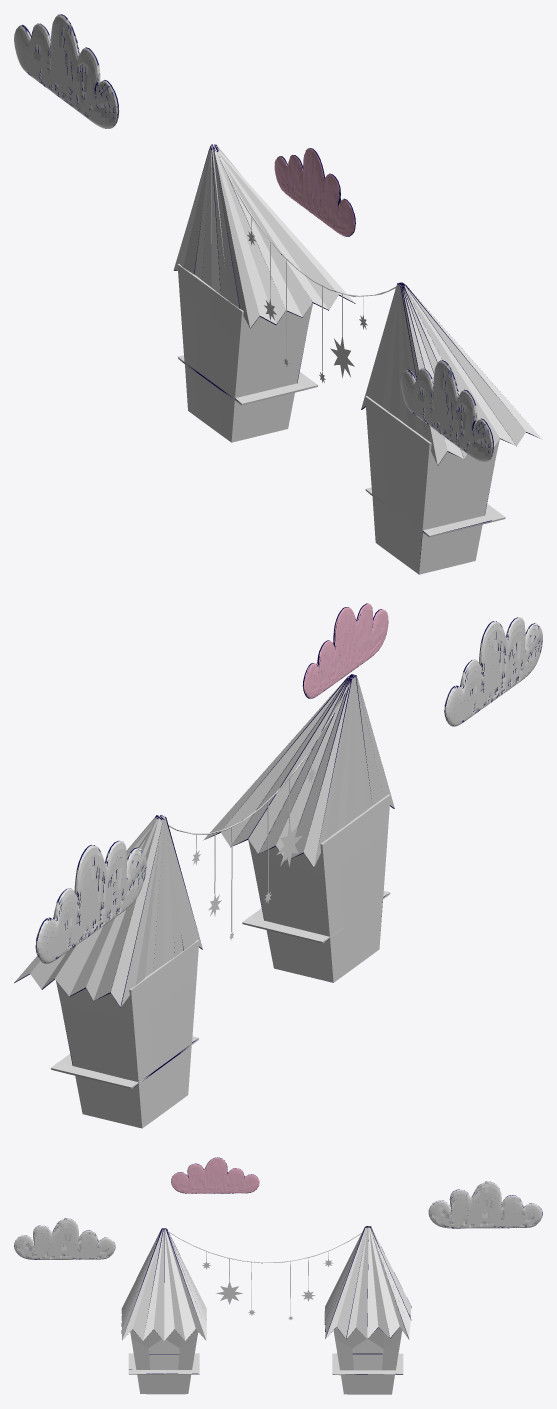
The model's file is kiosks without textures!!.fbx.
3 views of the same model, one above another, from view 1: azimuth 30°, elevation 25°; view 2: azimuth 150°, elevation 25°; view 3: azimuth 270°, elevation 25° (orthographic). The views are drawn at different scales.
Parts seen in each view (by area): view 1: Cube.001, Cube.008, Plane.016, Plane.003, Plane.002, Plane.001; view 2: Cube.008, Cube.001, Plane.016, Plane.003, Plane.002, Plane.001; view 3: Cube.001, Cube.008, Plane.016, Plane.003, Plane.001, Plane.002.
Boxes of the visible parts, x1,y1,x2,y2 form: Cube.001: (173, 144, 355, 442); Cube.008: (361, 282, 542, 574); Plane.016: (14, 14, 119, 128); Plane.003: (400, 360, 493, 462); Plane.002: (274, 148, 351, 233); Plane.001: (277, 151, 355, 236); Cube.008: (203, 674, 394, 982); Cube.001: (14, 815, 202, 1128); Plane.016: (35, 840, 146, 963); Plane.003: (444, 617, 542, 726); Plane.002: (302, 603, 386, 698); Plane.001: (308, 603, 388, 697); Cube.001: (324, 1226, 411, 1394); Cube.008: (121, 1228, 206, 1394); Plane.016: (428, 1181, 542, 1228); Plane.003: (14, 1218, 115, 1259); Plane.001: (171, 1157, 255, 1193); Plane.002: (177, 1157, 259, 1193).
Bounding box in the file's own units: 227 × 556 × 1252.
